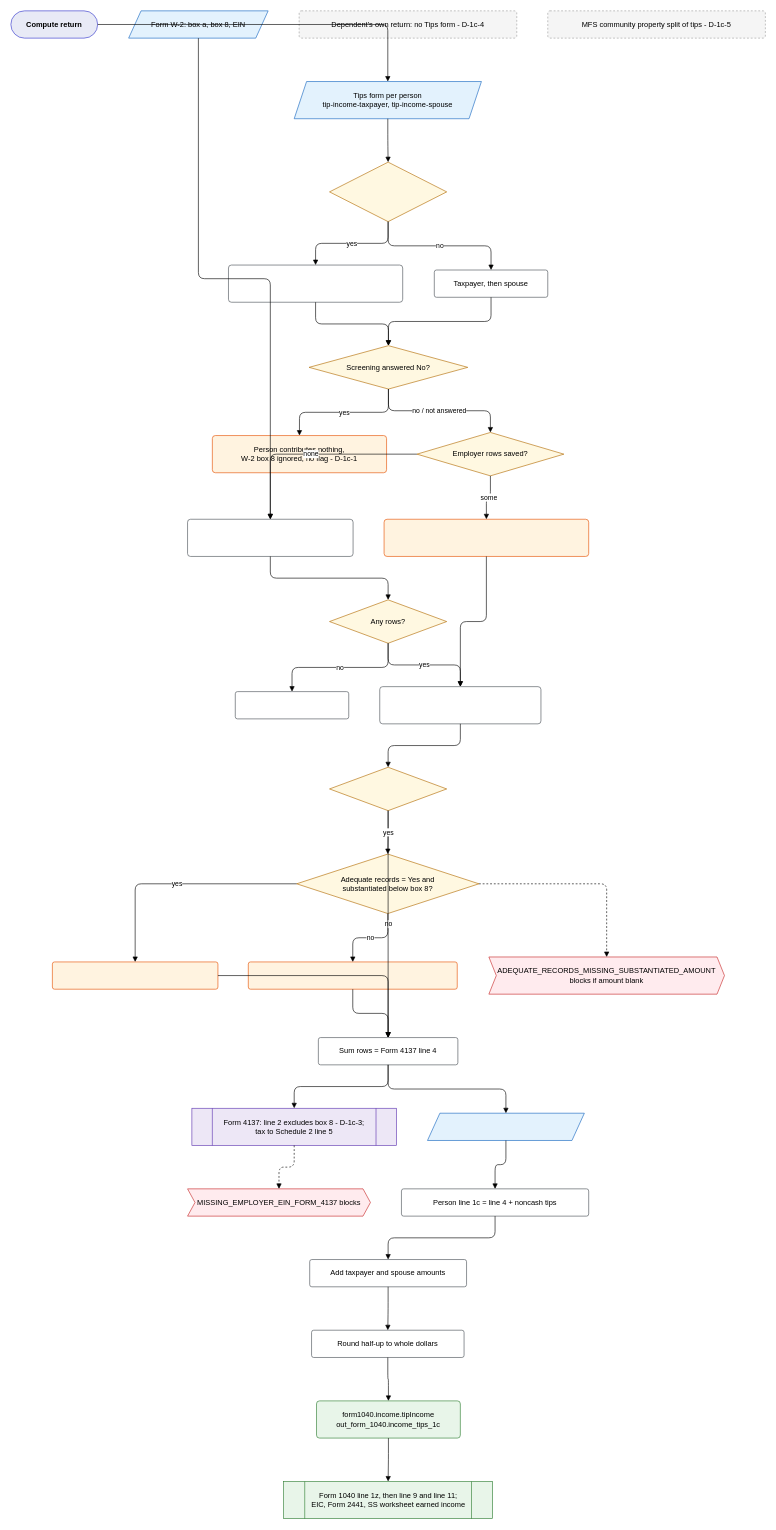
The diagram is 776 pixels wide and 1530 high, and some of its shapes have lost their labels. The shapes that lost their labels are listed below. From the top down, each one's centre as x and y in pixels, then its label:
At point (388, 192): "Married filing separately?".
At point (315, 283): "Taxpayer only (spouse leg uses the spouse's form)".
At point (270, 537): "Build rows from the person's W-2s with box 8 above 0 (box a = SSN)".
At point (486, 537): "Use saved rows only; a missing W-2 or stale box 8 copy is not caught - D-1c-1".
At point (292, 705): "Person line 1c = null".
At point (460, 705): "Per employer: unreported = received minus reported, floor 0".
At point (388, 789): "Box 8 above 0?".
At point (135, 975): "Use substantiated amount - D-1c-2".
At point (352, 975): "Use larger of unreported and box 8 - D-1c-2".
At point (505, 1126): "Noncash tips, fair market value".
